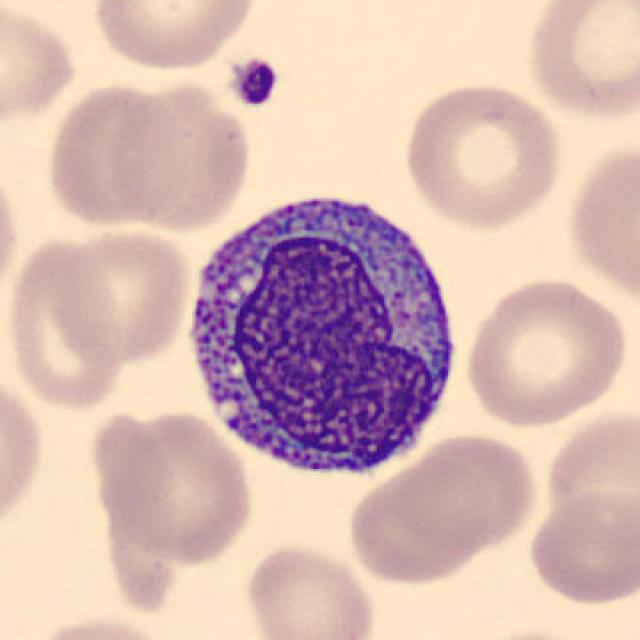Monocyte: (176, 181, 471, 497)
Platelets: (228, 55, 282, 111)
RBC: (341, 432, 528, 587), (90, 406, 258, 568), (459, 272, 631, 430), (398, 78, 567, 231), (108, 74, 256, 235), (41, 78, 188, 231), (4, 233, 126, 414), (44, 222, 196, 367), (537, 402, 638, 559), (520, 0, 638, 123), (523, 485, 638, 608), (240, 539, 378, 640), (562, 134, 640, 312), (86, 0, 262, 74), (0, 0, 82, 134), (0, 369, 48, 543), (21, 612, 183, 640), (0, 152, 25, 314), (458, 627, 609, 640)
